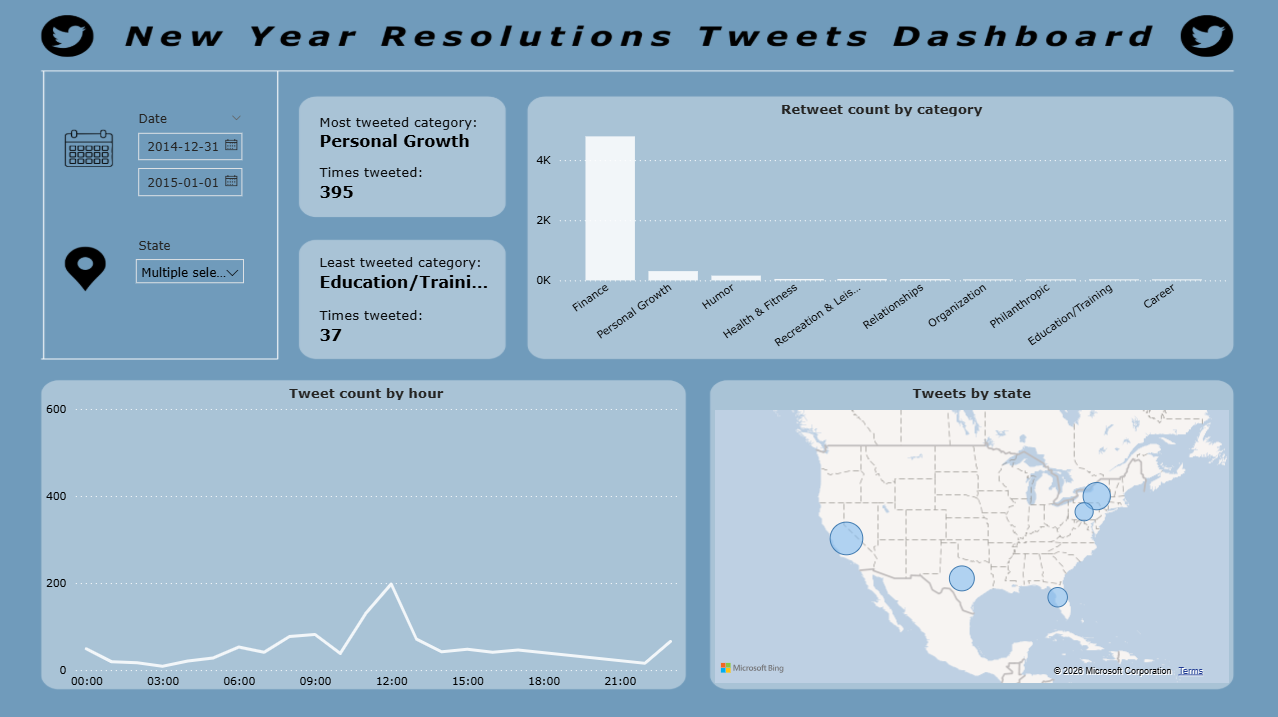

What the dashboard file says about the page in this screenshot:
{"tool":"powerbi","page":{"name":"Tweets","canvas":[1280,720],"ordinal":0},"visuals":[{"type":"cardVisual","fields":{"Data":["New_years_resolutions.most_tweeted_category","New_years_resolutions.most_tweeted_count"]},"box":[292.9,101.2,232.1,120.2],"z":0},{"type":"cardVisual","fields":{"Data":["New_years_resolutions.least_tweeted_category","New_years_resolutions.least_tweeted_count"]},"box":[292.9,233.3,232.1,133.3],"z":1000},{"type":"columnChart","title":"Retweet count by category","fields":{"Y":["Sum(New_years_resolutions.retweet_count)"],"Category":["New_years_resolutions.tweet_category"]},"box":[532.1,101.2,702.4,258.3],"z":2000},{"type":"lineChart","title":"Tweet count by hour","fields":{"Category":["New_years_resolutions.tweet_hour"],"Y":["New_years_resolutions.tweets_count"]},"box":[42.9,384.5,651.2,313.1],"z":3000},{"type":"map","title":"Tweets by state","fields":{"Category":["New_years_resolutions.Location"],"Size":["New_years_resolutions.tweets_count"]},"box":[711.9,384.5,522.6,303.6],"z":4000},{"type":"slicer","fields":{"Values":["New_years_resolutions.tweet_state"]},"box":[127.4,233.3,128.6,66.7],"z":5000},{"type":"slicer","fields":{"Values":["New_years_resolutions.tweet_created"]},"box":[127.4,107.1,128.6,109.5],"z":6000}]}

Visuals, with their boxes in screenshot pixels (x1, y1, x2, y2), scaled from the page's 1280x720 canvas onto the 1278x717 screenshot:
cardVisual - New_years_resolutions.most_tweeted_category x New_years_resolutions.most_tweeted_count: 292,101,524,220
cardVisual - New_years_resolutions.least_tweeted_category x New_years_resolutions.least_tweeted_count: 292,232,524,365
"Retweet count by category" columnChart: 531,101,1233,358
"Tweet count by hour" lineChart: 43,383,693,695
"Tweets by state" map: 711,383,1233,685
slicer - New_years_resolutions.tweet_state: 127,232,256,299
slicer - New_years_resolutions.tweet_created: 127,107,256,216
